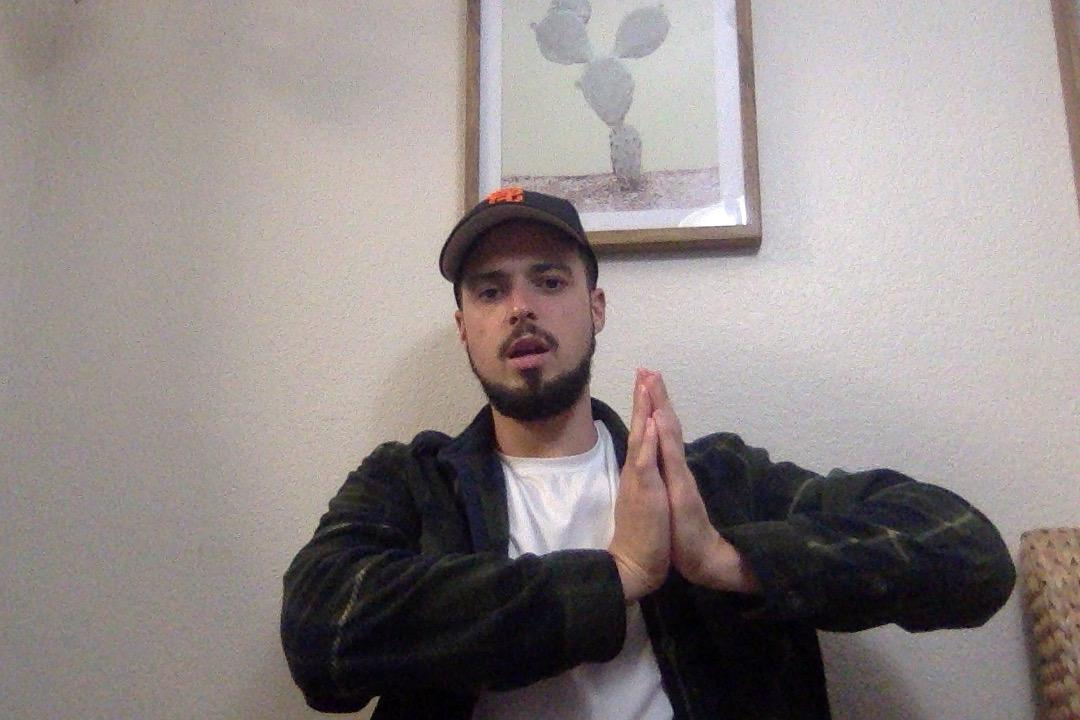Praying-Hands: (603, 358, 750, 622)
